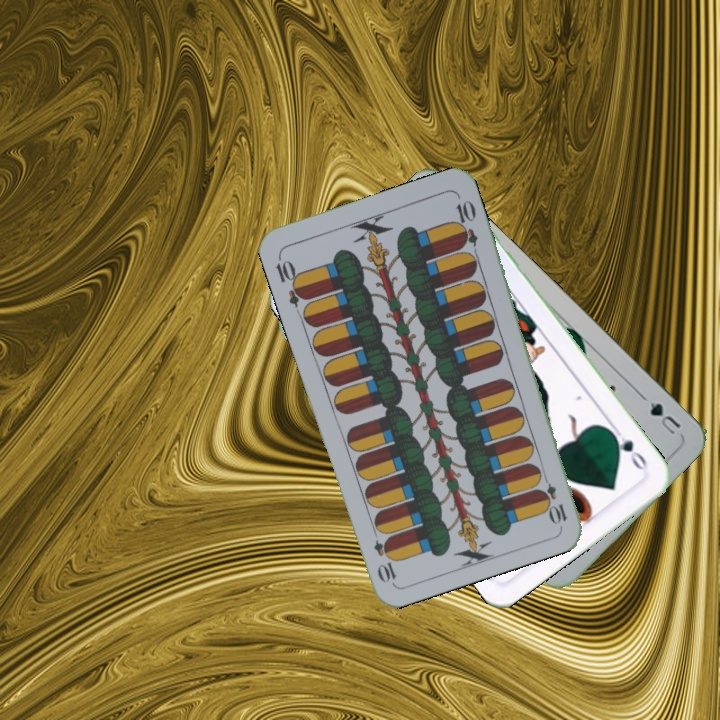E10: (271, 252, 310, 309), (536, 469, 570, 527)
GO: (606, 423, 650, 476)
GU: (645, 397, 684, 439)
